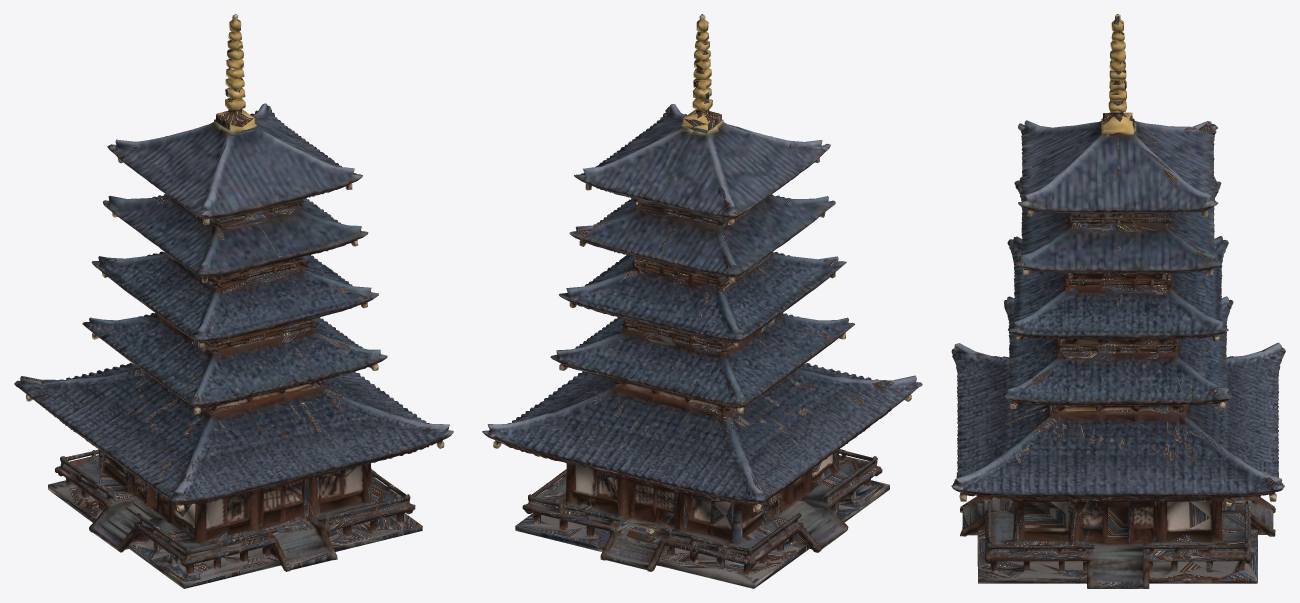
Rendered from pagoda-lod.glb.
The picture shows the model from 3 angles, left to right: view 1: azimuth 30°, elevation 25°; view 2: azimuth 150°, elevation 25°; view 3: azimuth 270°, elevation 25°; orthographic projection. The views are drawn at different scales.
Visible parts, largest first — view 1: tripo_node_33f9ca71-29b5-4fc2-8f32-272ea557ecc8; view 2: tripo_node_33f9ca71-29b5-4fc2-8f32-272ea557ecc8; view 3: tripo_node_33f9ca71-29b5-4fc2-8f32-272ea557ecc8.
Part boxes in pixels (bbox=[...]): tripo_node_33f9ca71-29b5-4fc2-8f32-272ea557ecc8: bbox=[14, 14, 453, 588]; tripo_node_33f9ca71-29b5-4fc2-8f32-272ea557ecc8: bbox=[482, 14, 922, 588]; tripo_node_33f9ca71-29b5-4fc2-8f32-272ea557ecc8: bbox=[951, 14, 1285, 588].
Size of the model in its own units: 0.5948 by 0.9995 by 0.5941.
Materials: 1 (1 with a texture image).
